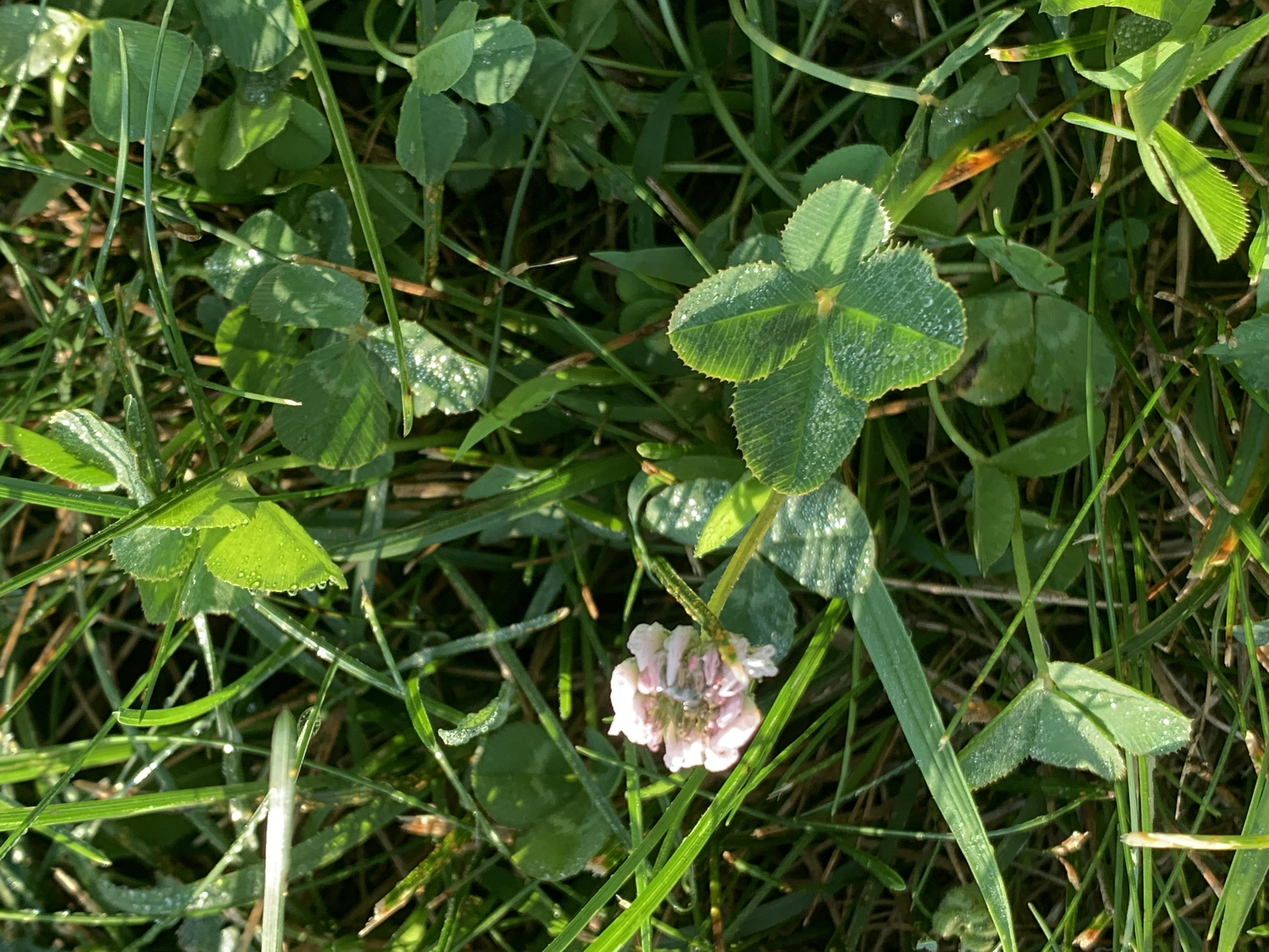4-Leaf-Clovers: (607, 497, 1033, 726)
